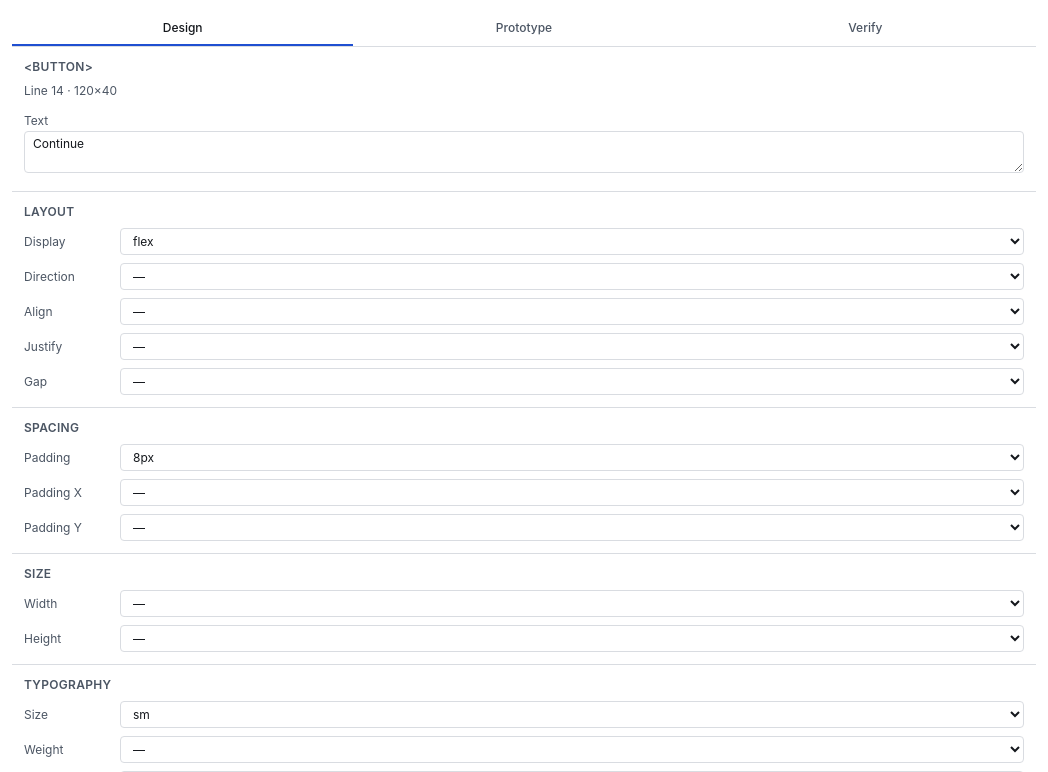
it: RightPanel verify tab › cannot run checks for no screen, or while they run
Click the tab "Verify" at (865, 29), box [695,12,1036,46]
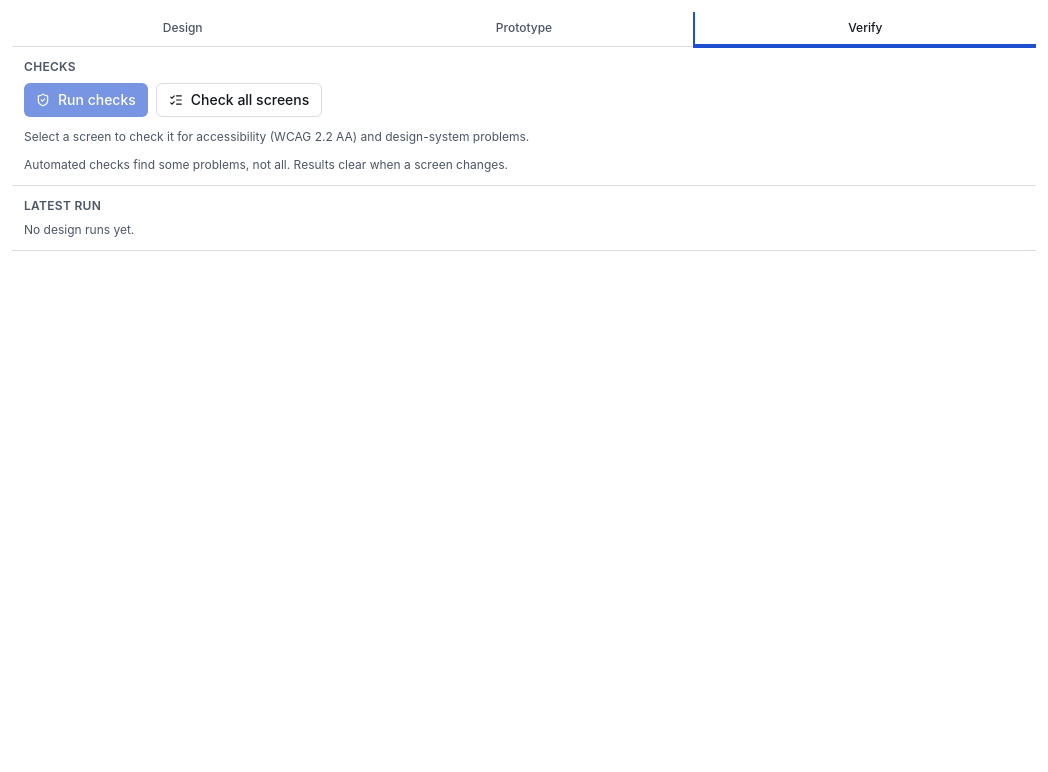
Expected: the button "Run checks" is disabled, [24,83,148,117]
Expected: the text "Select a screen to check it" is shown, [24,129,529,144]
